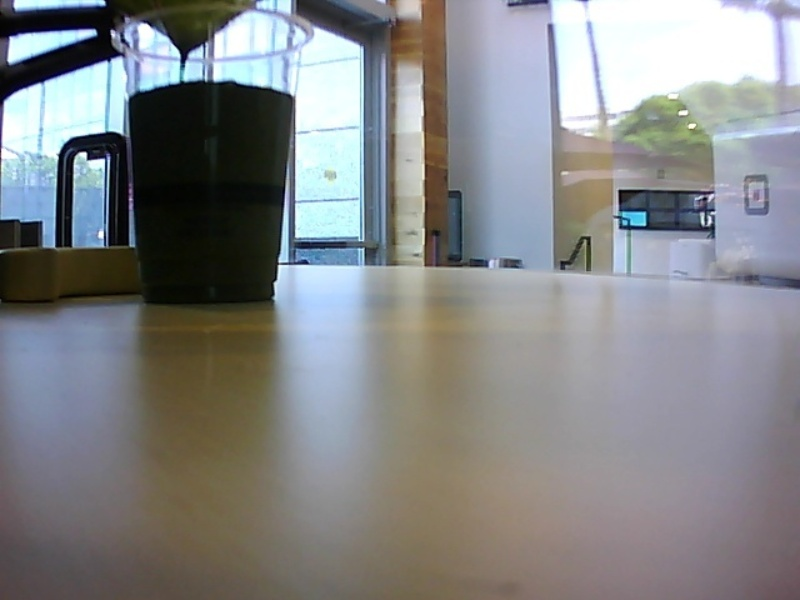cup: (105, 3, 318, 308)
limit: (130, 71, 299, 107)
